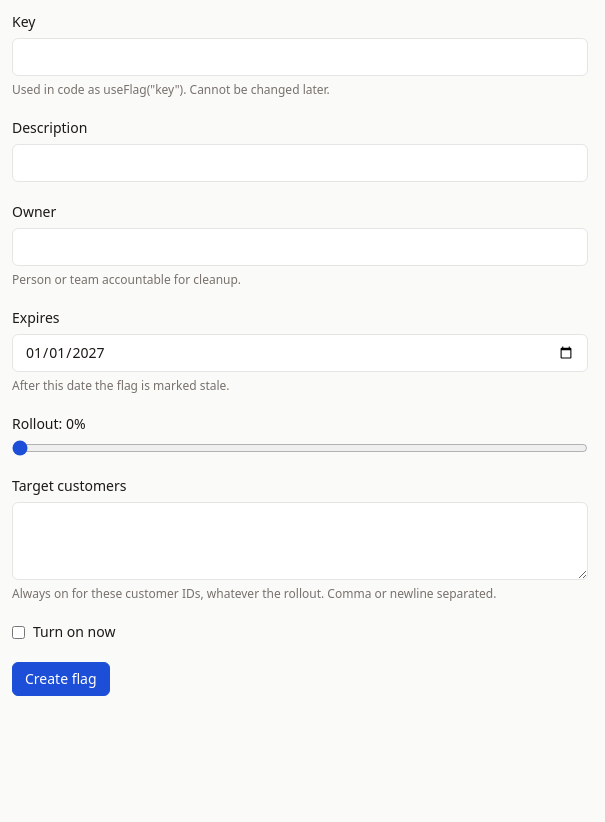
FlagForm error display › shows each server error next to its field, saying what to fix
This screenshot has width=605, height=822.
Click the button "Create flag".
click(61, 679)  # box [12,662,110,696]
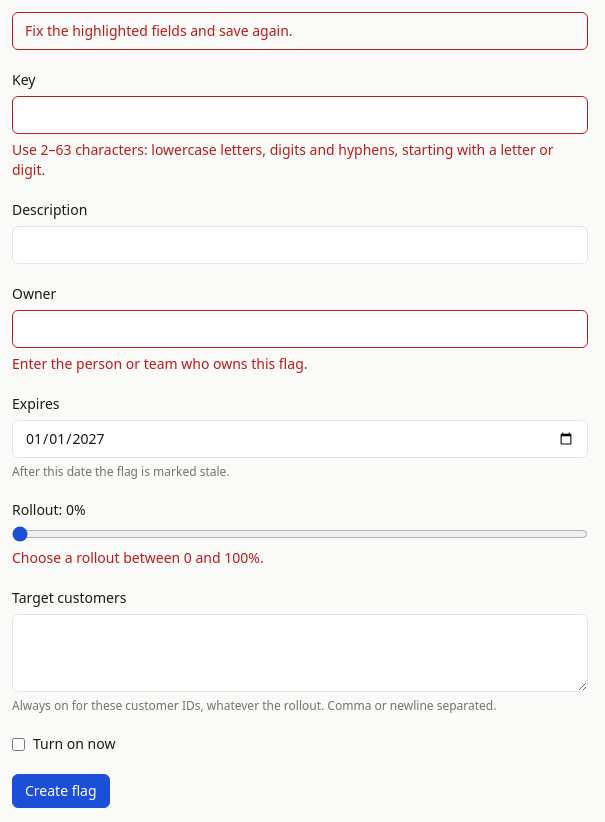
expect the text "Enter the person or team who owns this flag." is shown: met, box [12,354,308,373]
expect the text "Choose a rollout between 0 and 100%." is shown: met, box [12,548,264,567]
expect the message reads "Fix the highlighted fields and save again.": met, box [25,21,293,40]
